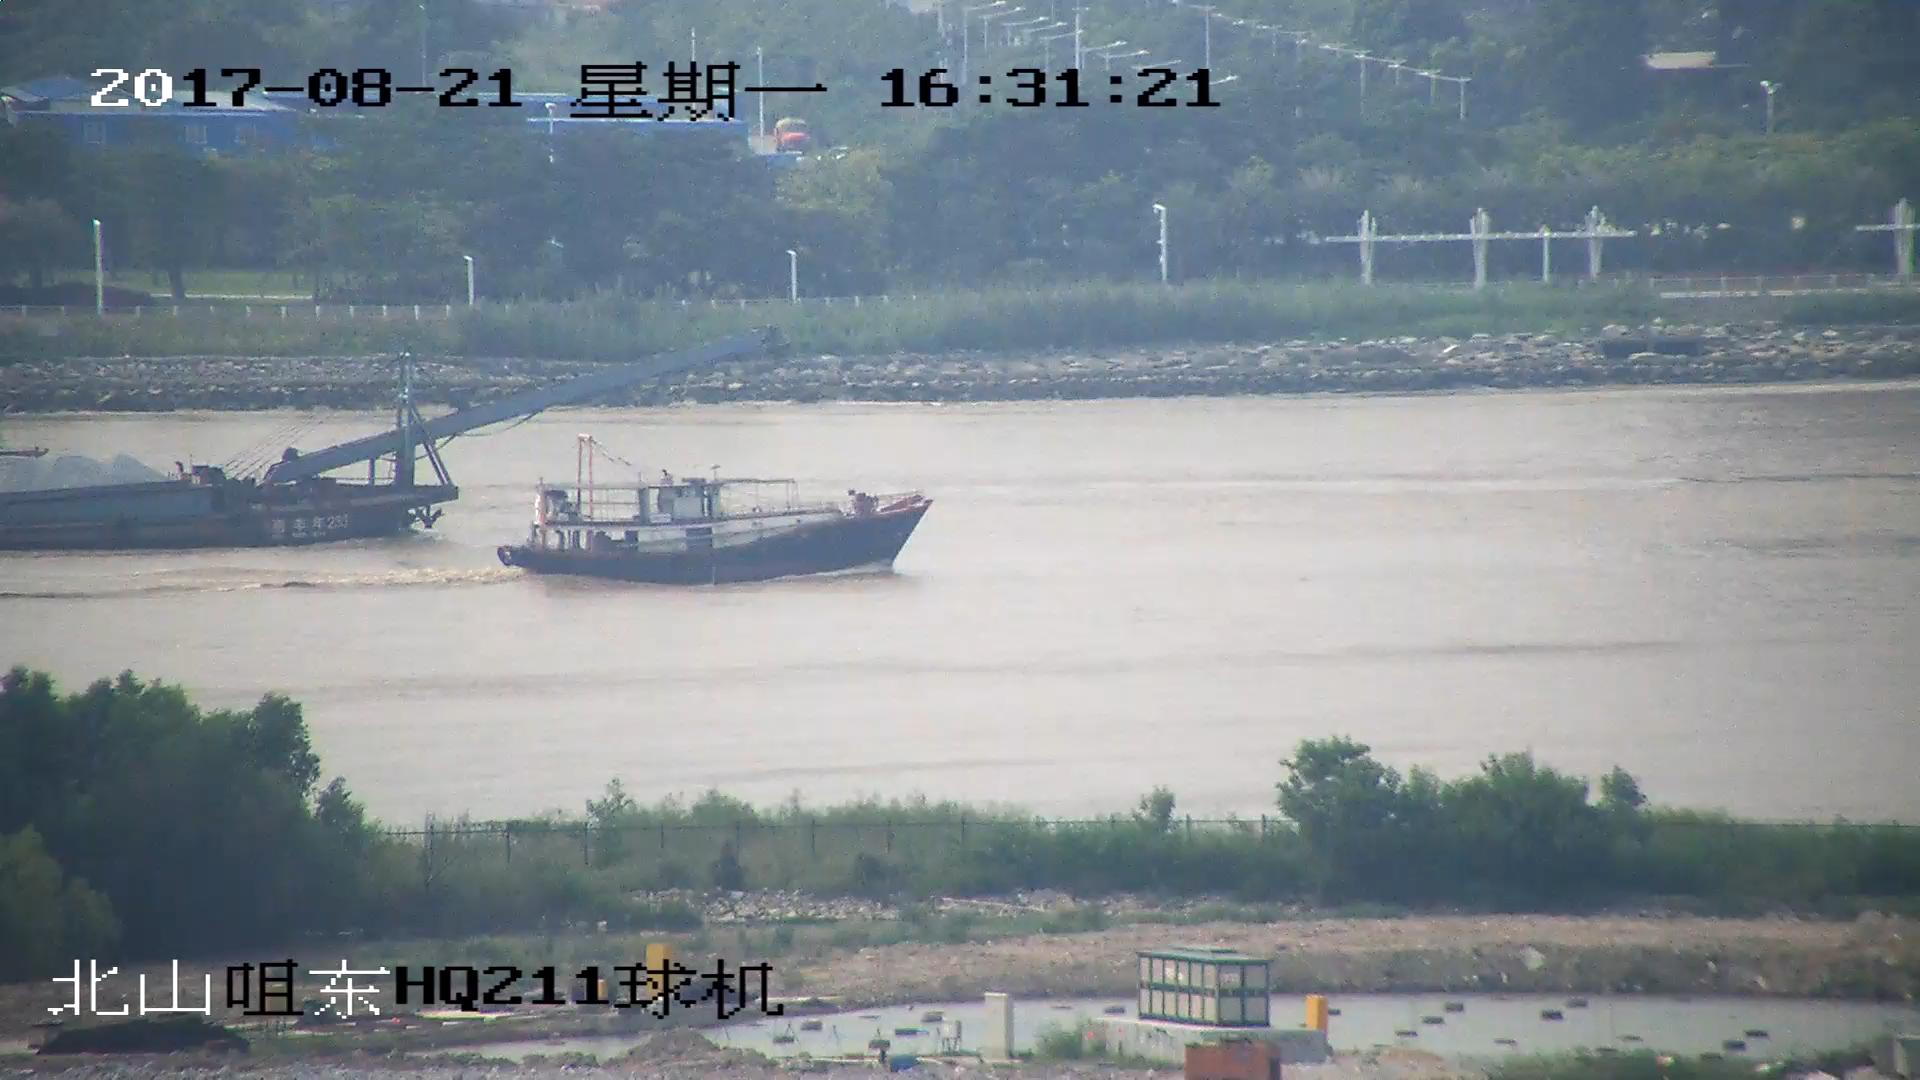fishing boat: (501, 441, 931, 584)
ore carrier: (1, 325, 767, 552)
